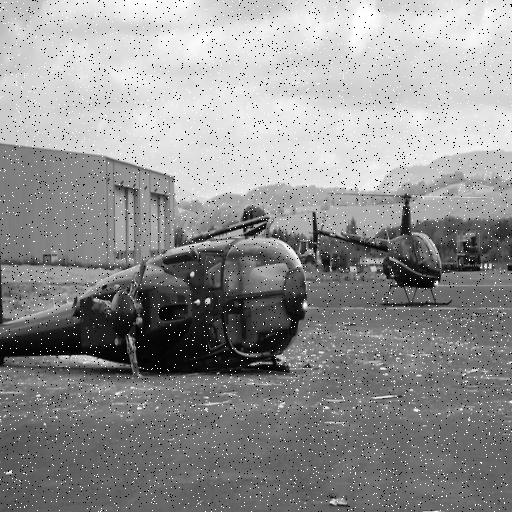helicopter: (1, 203, 313, 389), (301, 184, 462, 314)
